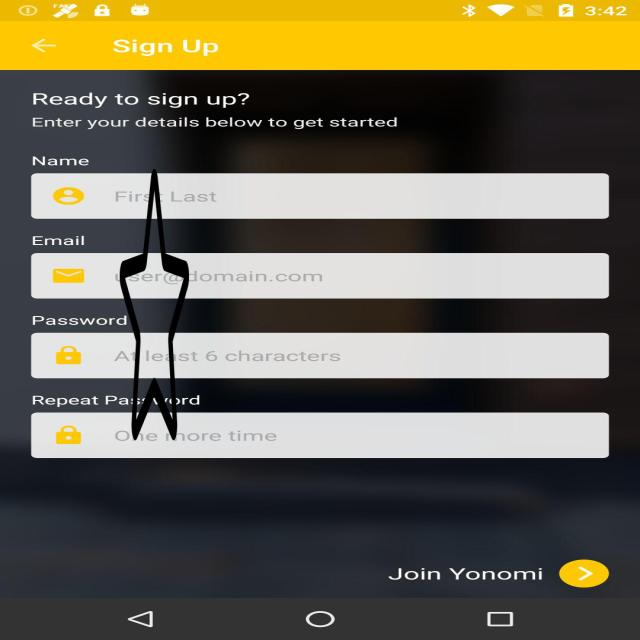forced continuity: (120, 163, 189, 446)
